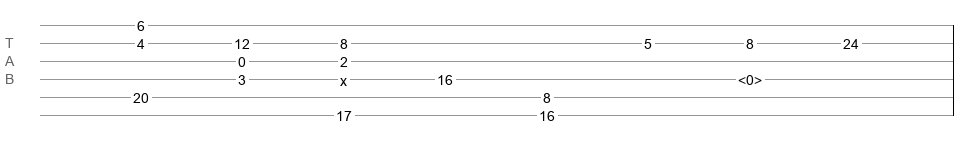0: (238, 54, 246, 64)
12: (234, 36, 250, 46)
16: (437, 72, 453, 82), (539, 108, 555, 118)
17: (336, 108, 352, 118)
2: (340, 54, 348, 64)
20: (133, 90, 149, 100)
24: (843, 36, 859, 46)
3: (238, 72, 246, 82)
4: (137, 36, 145, 46)
5: (644, 36, 652, 46)
6: (137, 18, 145, 28)
8: (340, 36, 348, 46), (543, 90, 551, 100), (746, 36, 754, 46)
harmonic: (738, 72, 762, 82)
x: (340, 73, 347, 81)
